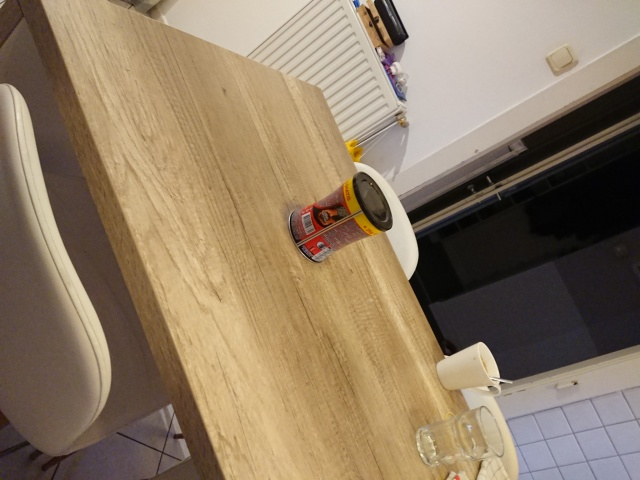Nescafe Classic 225g: (285, 169, 395, 265)
